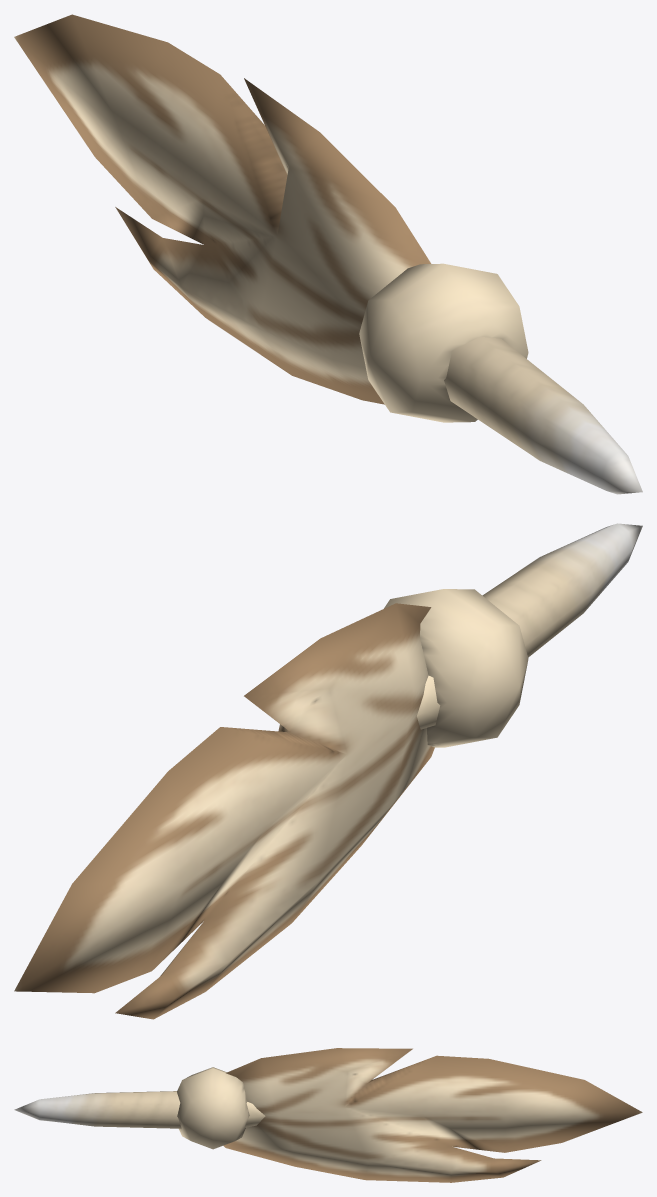
Rendered from Plume_Bullet.FBX.
3 renders of one model, top to bottom at view 1: azimuth 30°, elevation 25°; view 2: azimuth 150°, elevation 25°; view 3: azimuth 270°, elevation 25°, orthographic. The views are drawn at different scales.
Visible parts, largest first — view 1: Plume_Bullet; view 2: Plume_Bullet; view 3: Plume_Bullet.
Part boxes in pixels (x1,y1,x2,y2): Plume_Bullet: [14, 14, 642, 494]; Plume_Bullet: [14, 523, 642, 1019]; Plume_Bullet: [14, 1048, 642, 1182].
Bounding box in the file's own units: 0.1925 × 0.3265 × 1.38.
